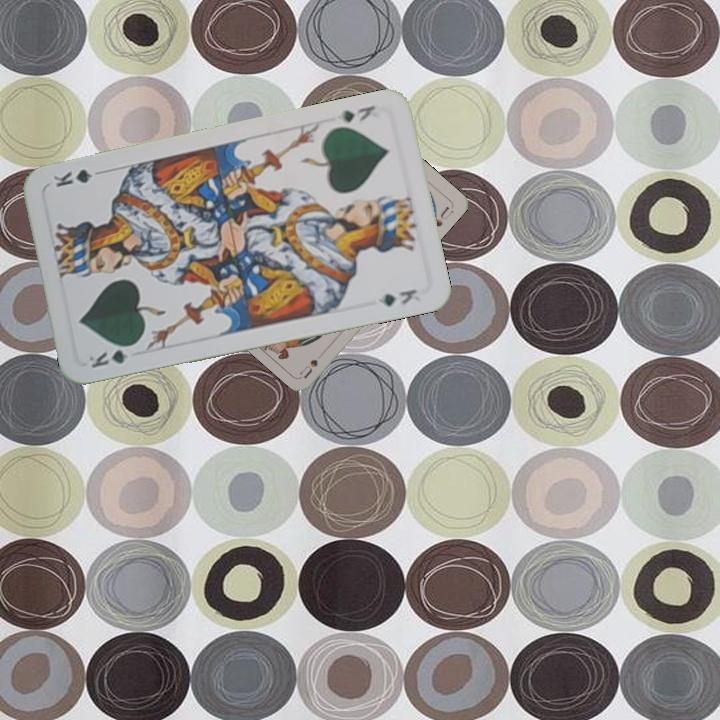GK: (84, 340, 140, 371), (336, 101, 378, 127)
SU: (296, 345, 329, 380)
